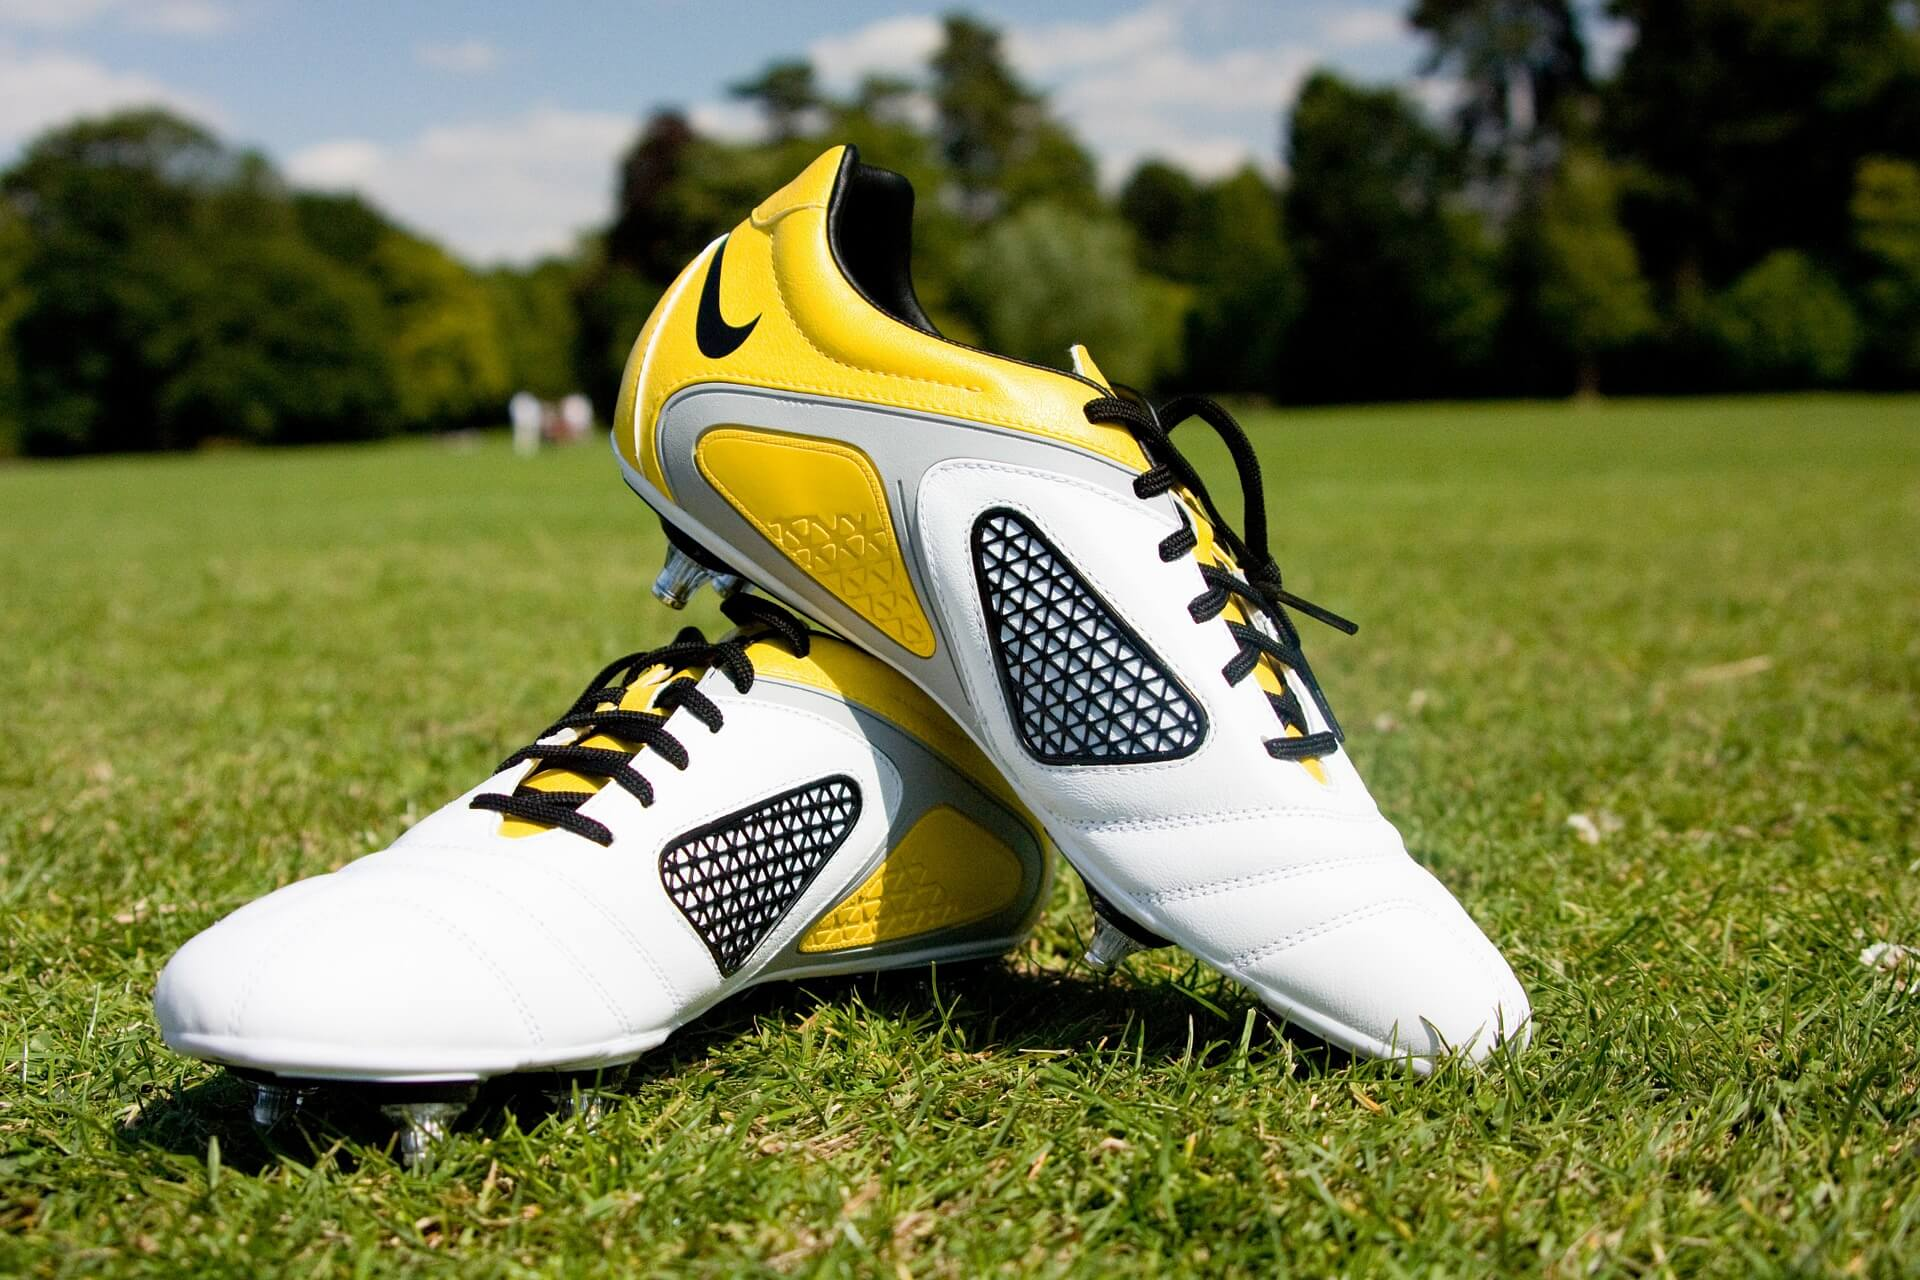football boots: (629, 164, 1517, 1060), (161, 631, 1056, 1149)
